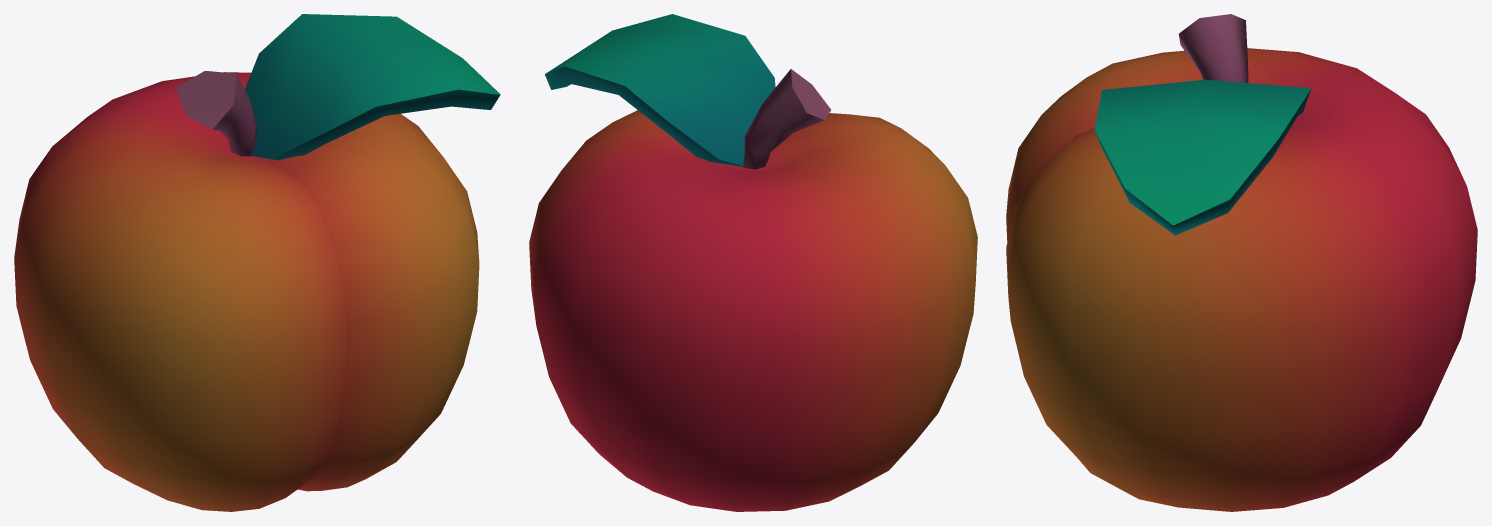
Rendered from Peach.glb.
3 renders of one model, left to right at view 1: azimuth 30°, elevation 25°; view 2: azimuth 150°, elevation 25°; view 3: azimuth 270°, elevation 25°, orthographic. The views are drawn at different scales.
Visible parts, largest first — view 1: geometry_0; view 2: geometry_0; view 3: geometry_0.
Part boxes in pixels (x1=…): geometry_0: x1=14, y1=14, x2=500, y2=511; geometry_0: x1=529, y1=14, x2=977, y2=511; geometry_0: x1=1006, y1=14, x2=1477, y2=511.
Size of the model in its own units: 0.3656 by 0.3401 by 0.3291.
1 material, 1 textured.
